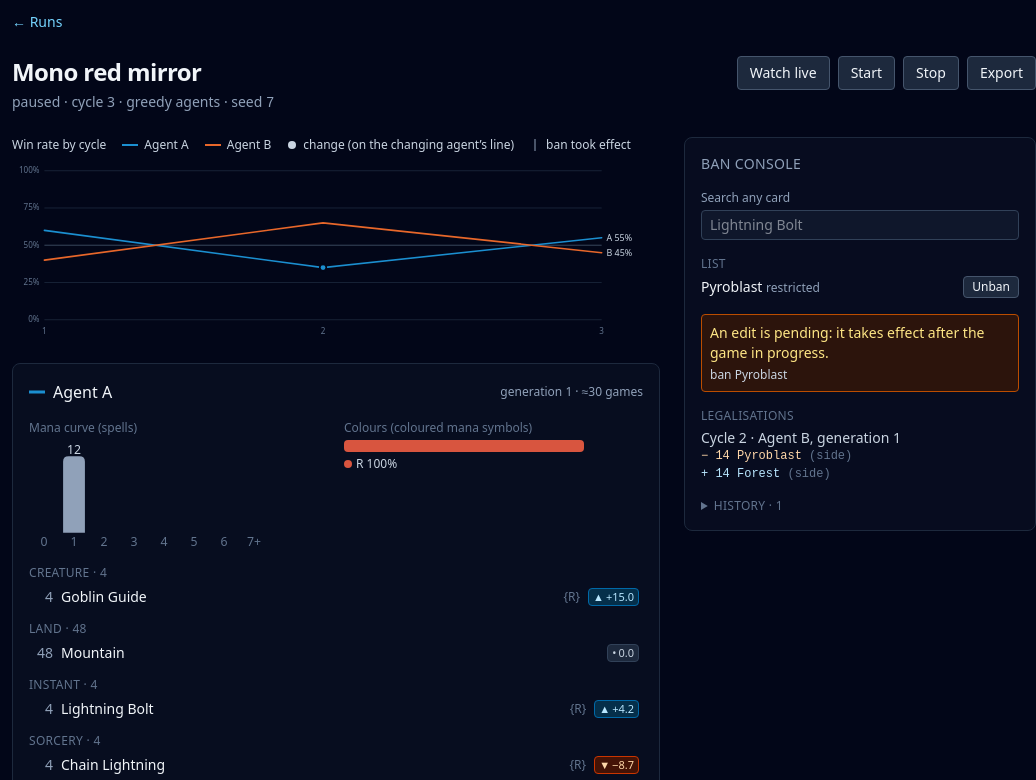
Test: the ban console › says an edit on a run being played takes effect after the game in progress, and unbans
Check: the message shows "takes effect after the game in progress", box [701,314,1019,392]
Click the button with aria-label "Unban Pyroblast": (991,287) [963,276,1019,298]
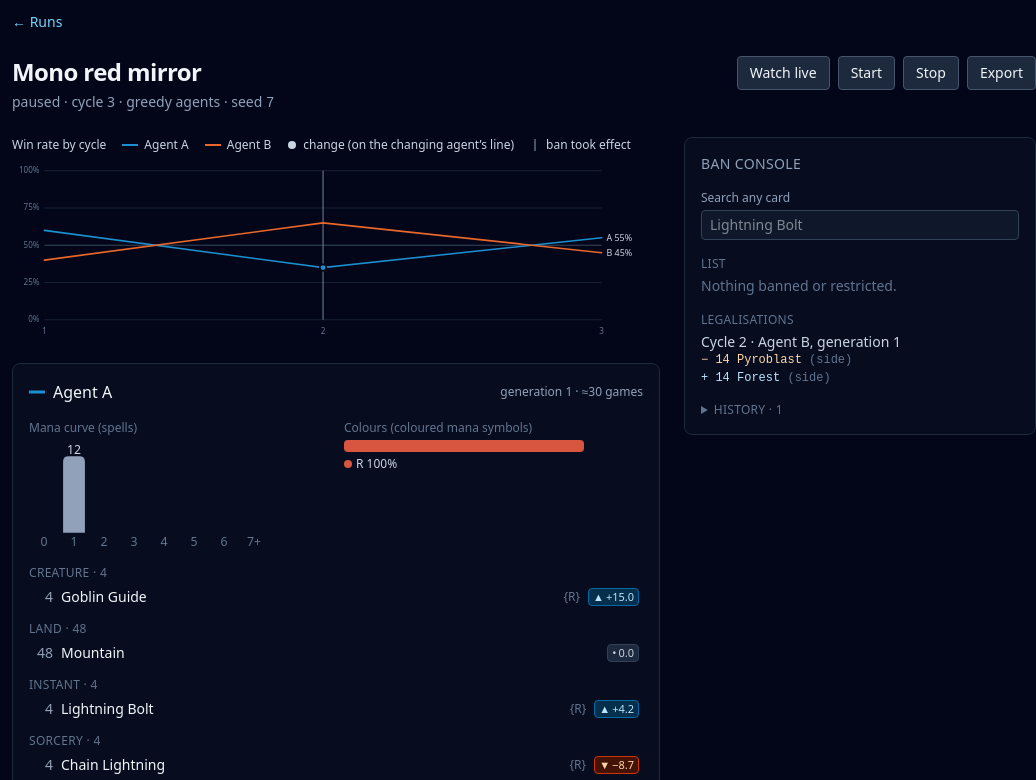
Check: the text "Nothing banned or restricted." is shown, box [701,276,897,295]
